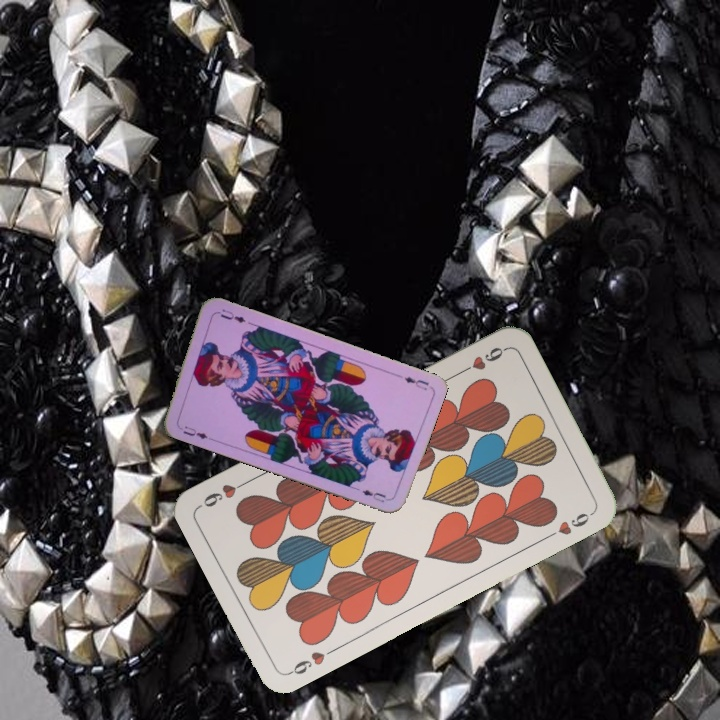EU: (174, 421, 210, 442), (400, 372, 431, 393)
H9: (454, 343, 509, 378), (284, 644, 339, 678)
